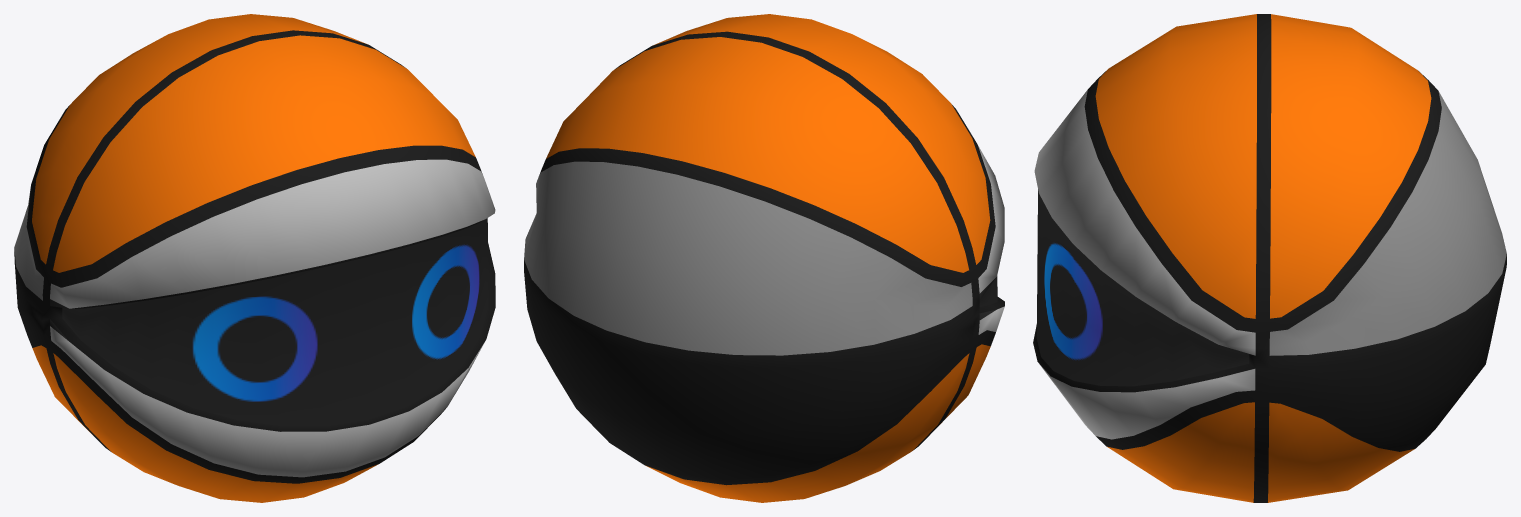
File: idle.glb
3 renders of one model, left to right at view 1: azimuth 30°, elevation 25°; view 2: azimuth 150°, elevation 25°; view 3: azimuth 270°, elevation 25°, orthographic.
Parts seen in each view (by area): view 1: BasketballBall_Idle; view 2: BasketballBall_Idle; view 3: BasketballBall_Idle.
Boxes of the visible parts, x1,y1,x2,y2 form: BasketballBall_Idle: [14, 14, 495, 502]; BasketballBall_Idle: [524, 14, 1004, 502]; BasketballBall_Idle: [1033, 14, 1506, 502].
Size of what is drawn, in the model's own units: 0.7506 by 0.7458 by 0.7224.
2 materials, 2 textured.
